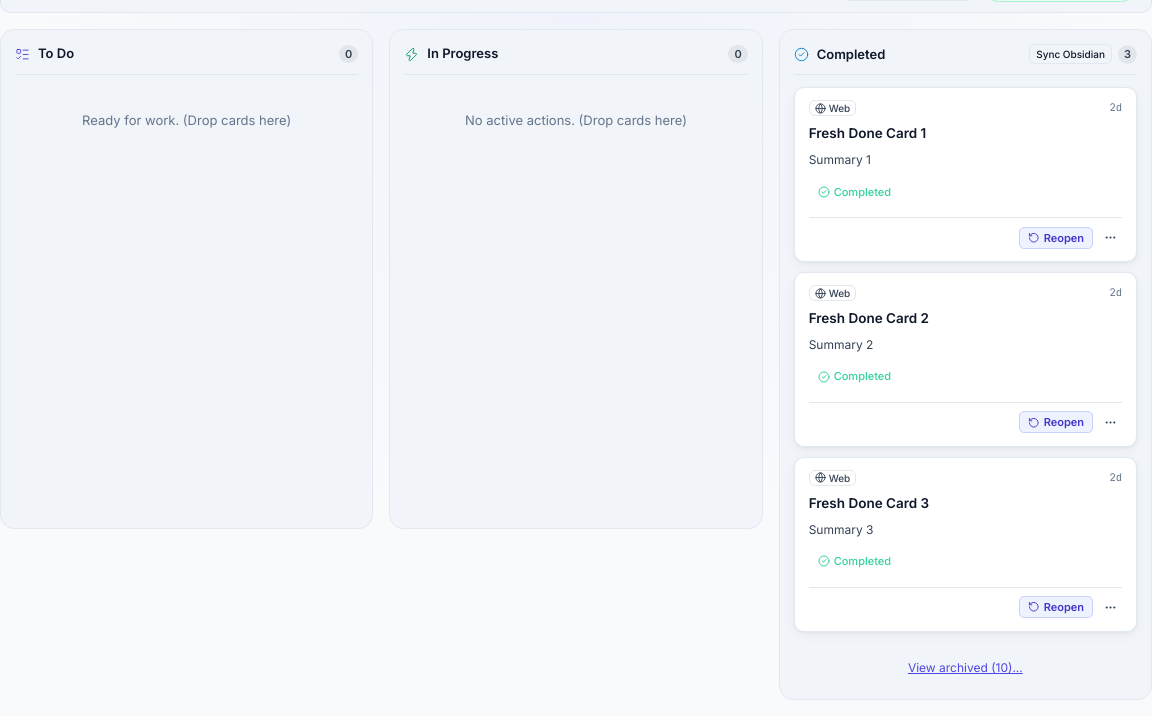
KanbanBoard Density & Usability › collapses cards marked Done older than 7 days into View Archived and expands when clicked
The width and height of the screenshot is (1152, 716).
(page scrolled)
Expected: the heading "Fresh Done Card 1" is shown, [809,125,926,141]
Expected: the heading "Fresh Done Card 2" is shown, [809,310,929,326]
// Click to expand archived cards
Click the button "View archived (10)..." at (965, 667), box [900,656,1031,679]
(page scrolled)
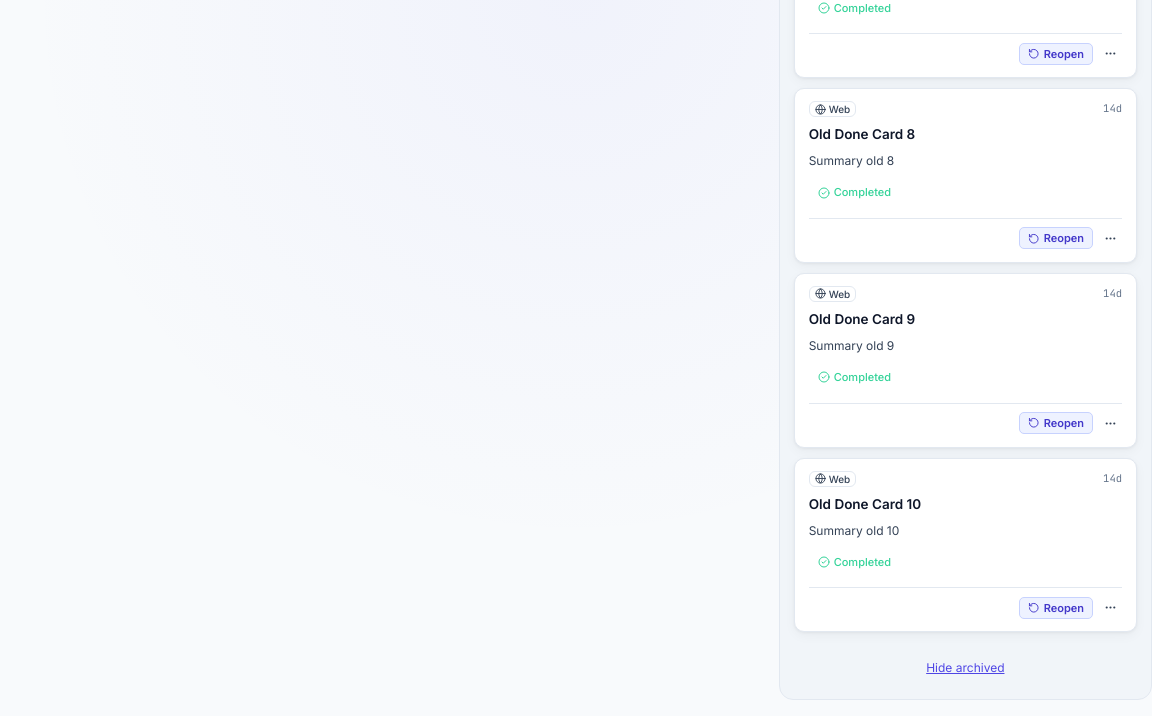
Expected: the heading "Old Done Card 10" is shown, [809,496,921,512]
Expected: the button "Hide archived" is shown
// Click again to collapse
Click the button "Hide archived" at (965, 668), box [918,656,1012,679]
(page scrolled)
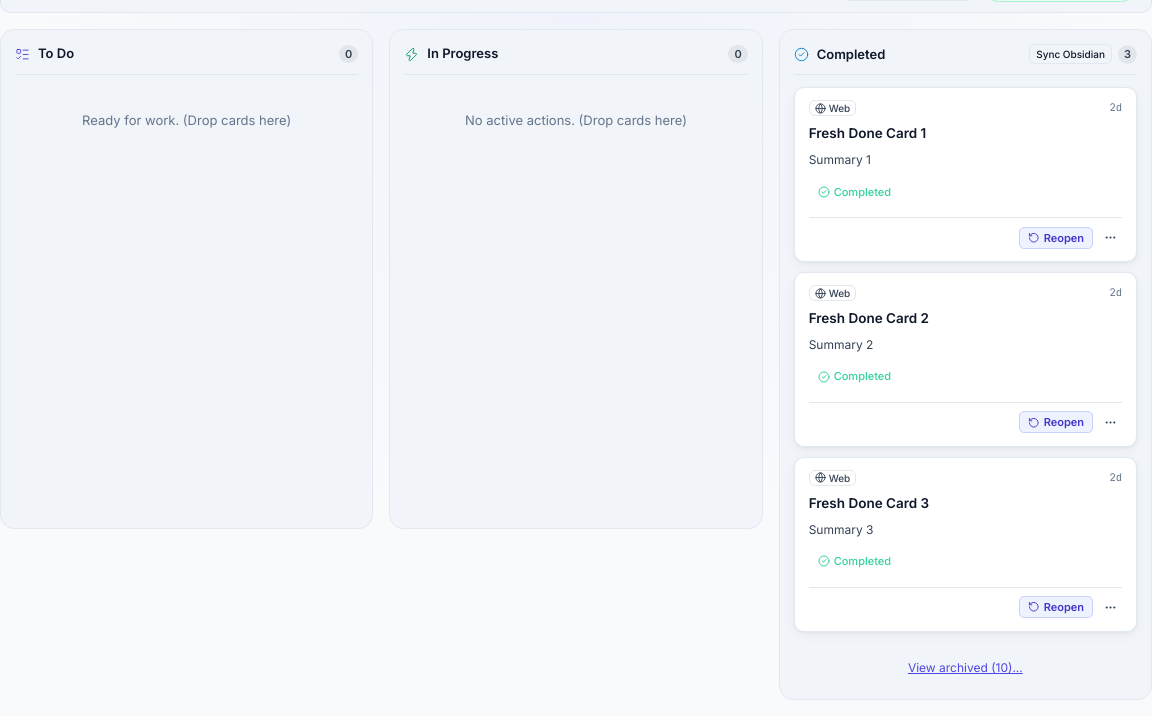
Expected: the heading "Old Done Card 1" is gone
